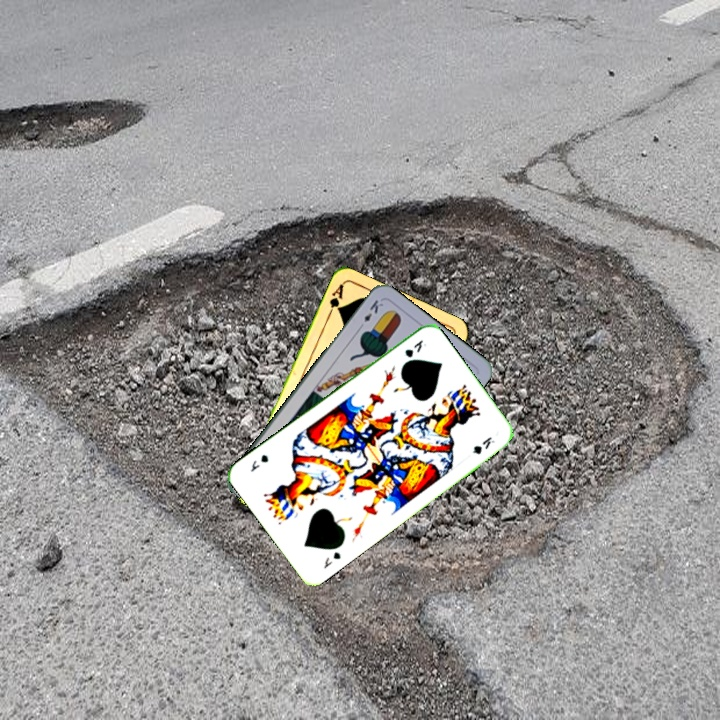EK: (354, 296, 386, 332)
GA: (324, 280, 346, 319)
GK: (400, 336, 429, 360), (319, 548, 343, 572)
